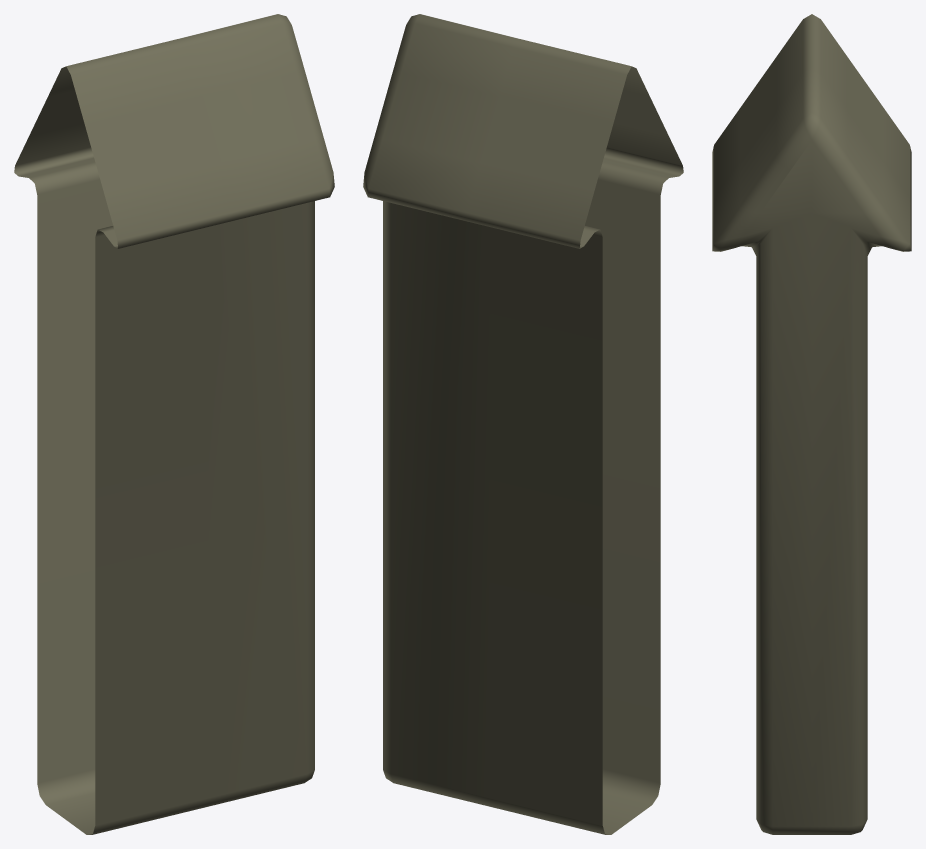
Rendered from FenceEnd_v02.glb.
3 views of the same model, side by side, from view 1: azimuth 30°, elevation 25°; view 2: azimuth 150°, elevation 25°; view 3: azimuth 270°, elevation 25° (orthographic). The views are drawn at different scales.
Parts seen in each view (by area): view 1: SM_FenceEnd; view 2: SM_FenceEnd; view 3: SM_FenceEnd.
Part boxes in pixels (x1,y1,x2,y2): SM_FenceEnd: [14, 14, 334, 834]; SM_FenceEnd: [363, 14, 683, 834]; SM_FenceEnd: [712, 14, 911, 834].
Size of the model in its own units: 0.76 by 2.42 by 0.6043.
